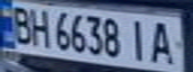3: (84, 12, 106, 56)
6: (48, 9, 72, 52), (66, 11, 87, 54)
8: (100, 15, 127, 60)
A: (145, 17, 184, 66)
B: (6, 2, 36, 45)
H: (27, 6, 54, 47)
I: (124, 17, 154, 63)
